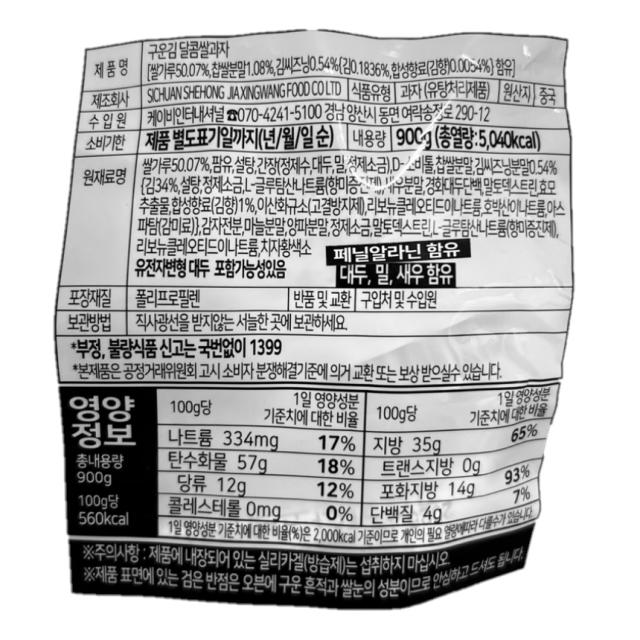Nutrition Label: (47, 375, 579, 618)
